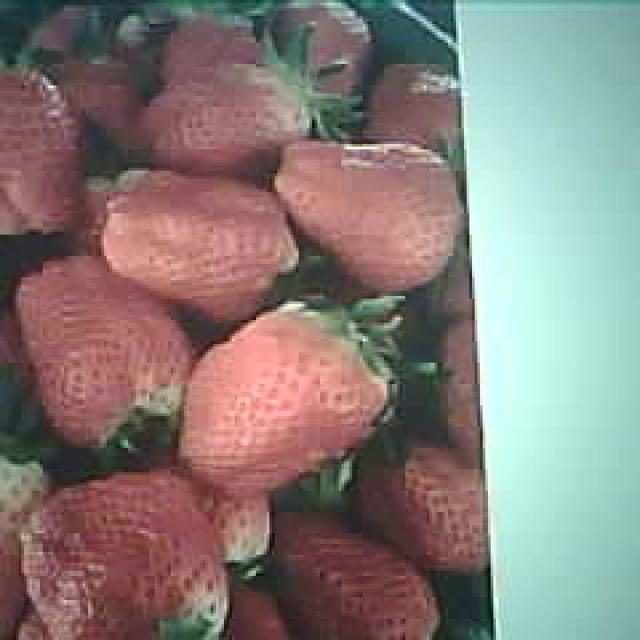strawberry: (180, 305, 388, 492), (21, 475, 228, 640), (17, 258, 188, 453), (275, 136, 459, 294), (105, 174, 292, 320), (274, 506, 434, 640)
